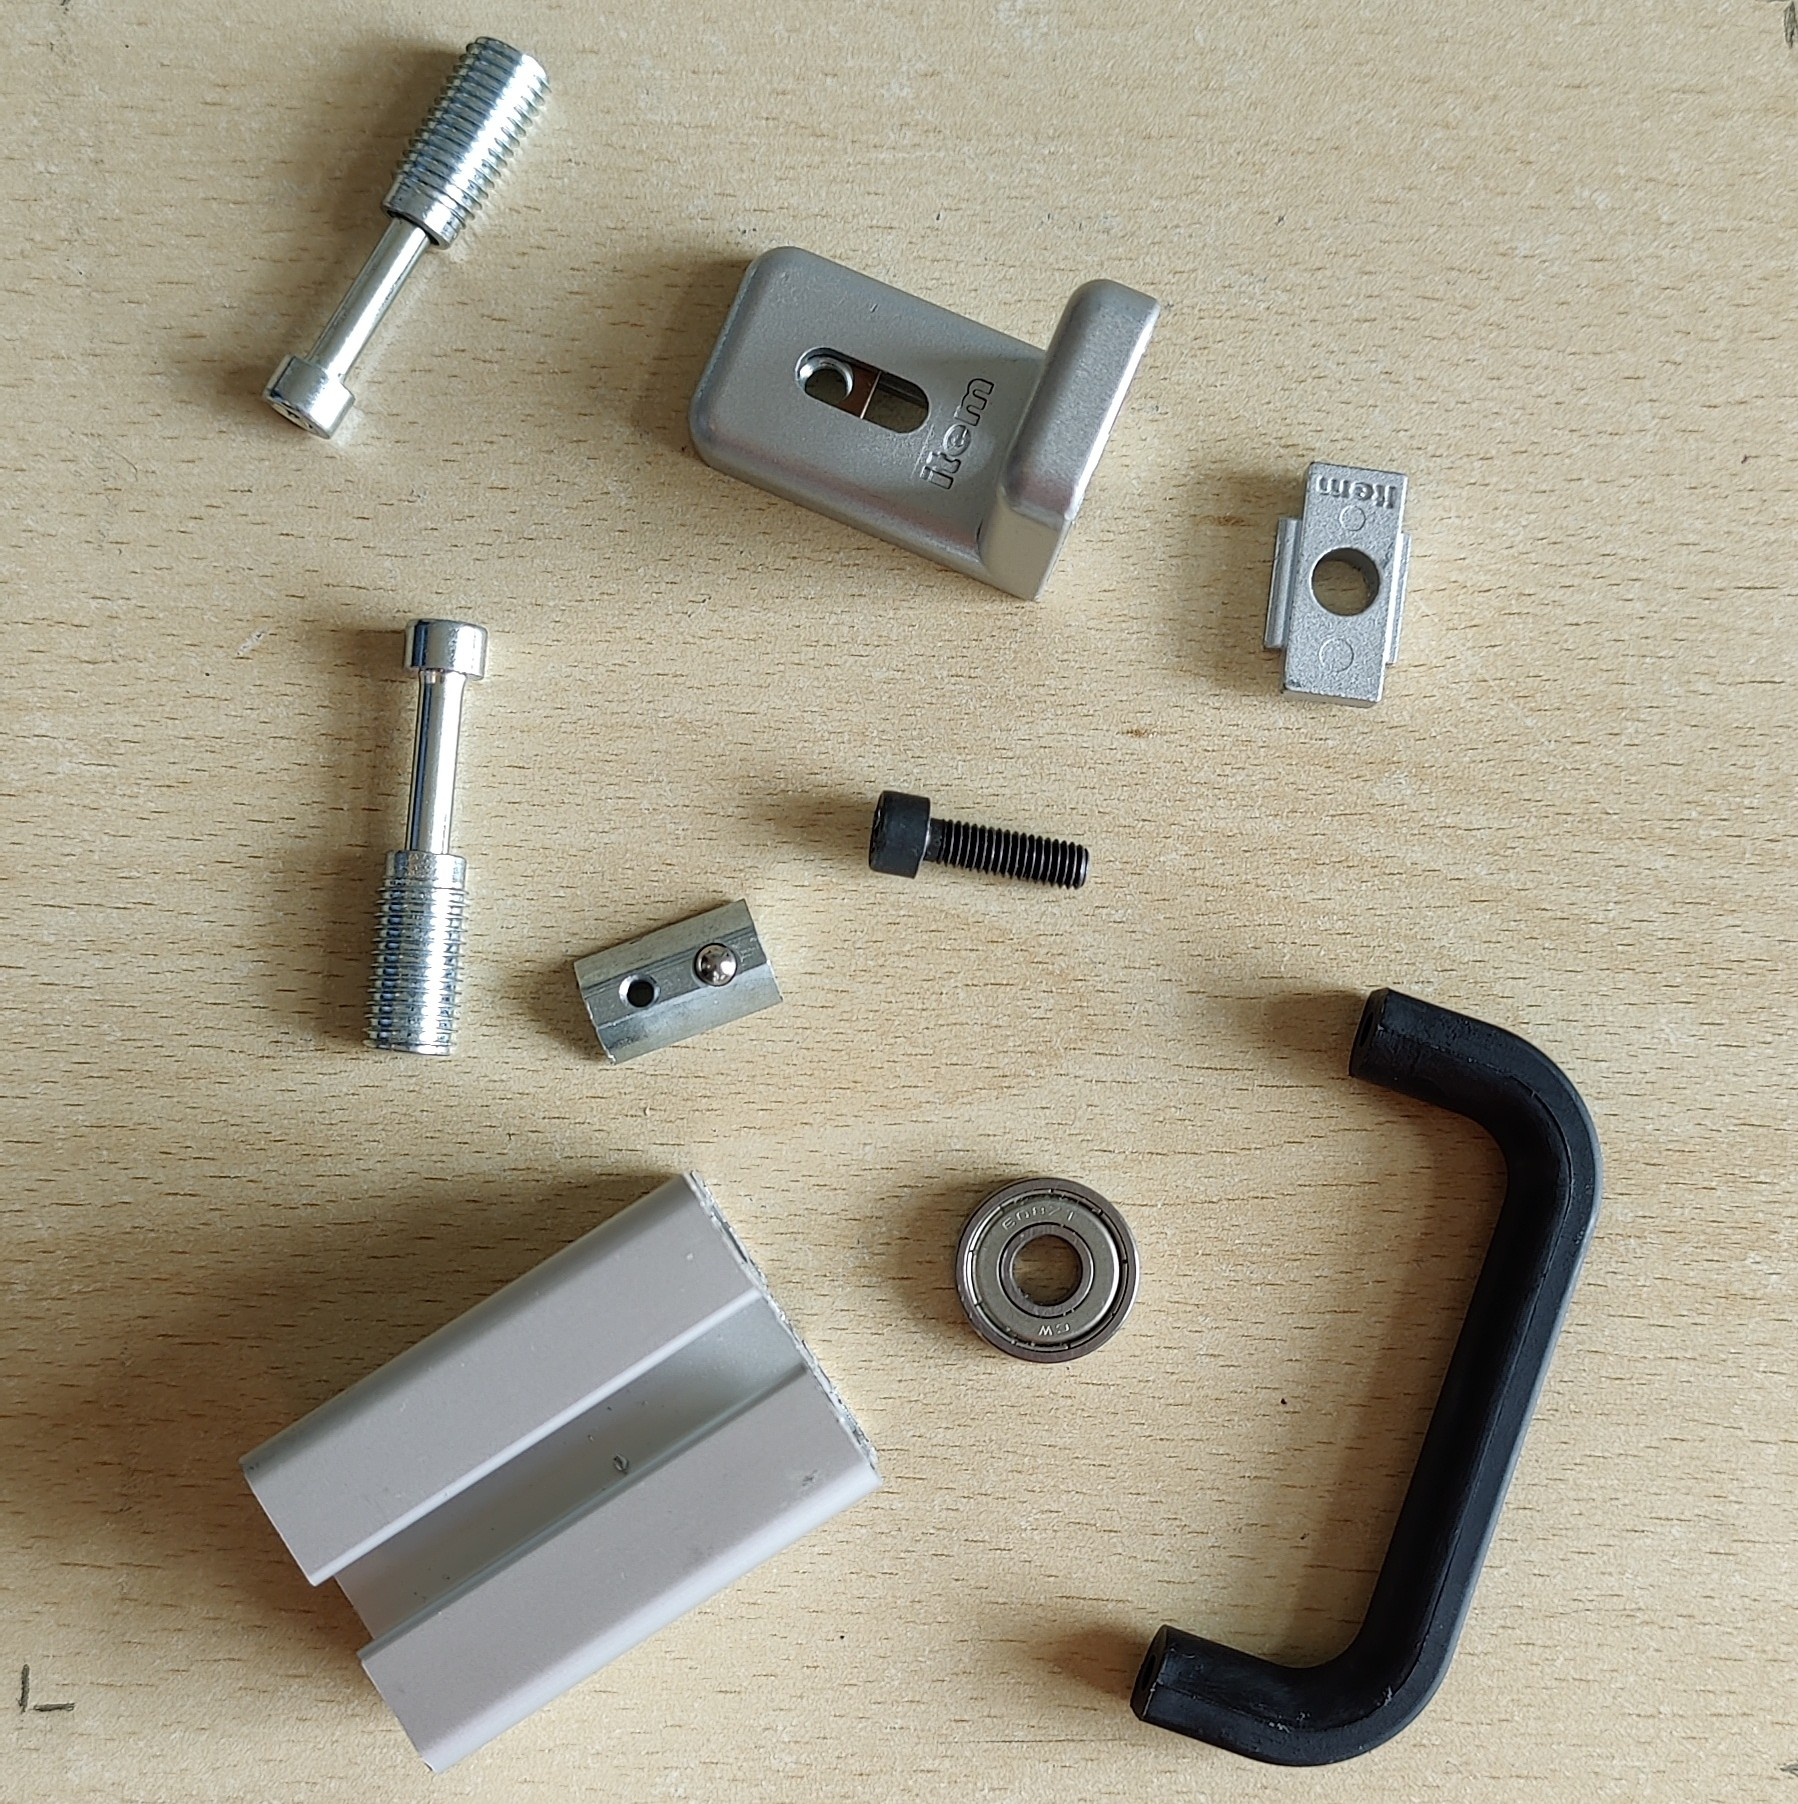Aluminium Extension: (234, 1164, 884, 1779)
Ball Bearing: (952, 1174, 1141, 1365)
Multiwinkel: (687, 245, 1162, 606)
Pull Handle: (1128, 984, 1605, 1771)
Shoulder Socket Head Cap Screw: (259, 30, 557, 443), (359, 616, 491, 1060)
Socket Head Cap Screw: (863, 787, 1093, 894)
T Nut Square: (1260, 456, 1414, 713)
T Spring Nut: (571, 894, 789, 1068)
